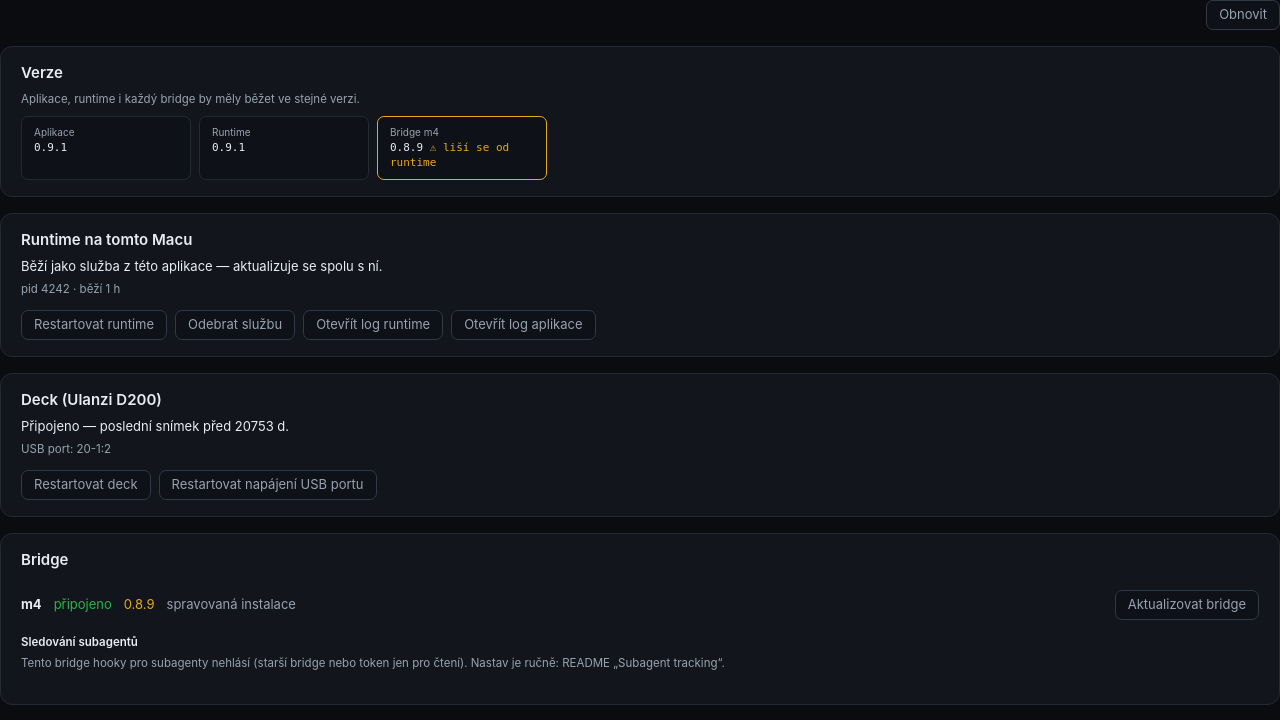
MaintenanceSection › explains not_managed with the one-time managed install command
Click the button "Aktualizovat bridge": {"x": 1187, "y": 604} 1115,590 -> 1259,620
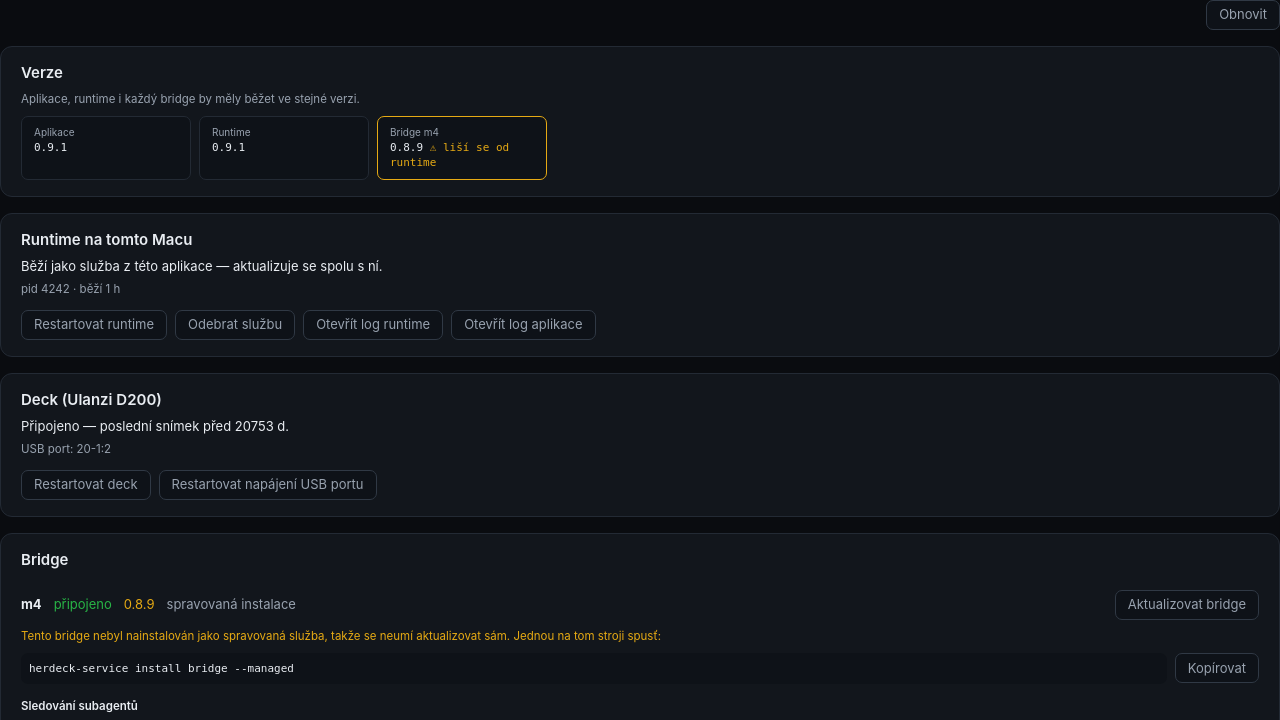
expect the text "spravovaná služba" is shown: met, box 21,628 -> 661,642
expect the text "herdeck-service install bridge --managed" is shown: met, box 21,653 -> 1167,684
